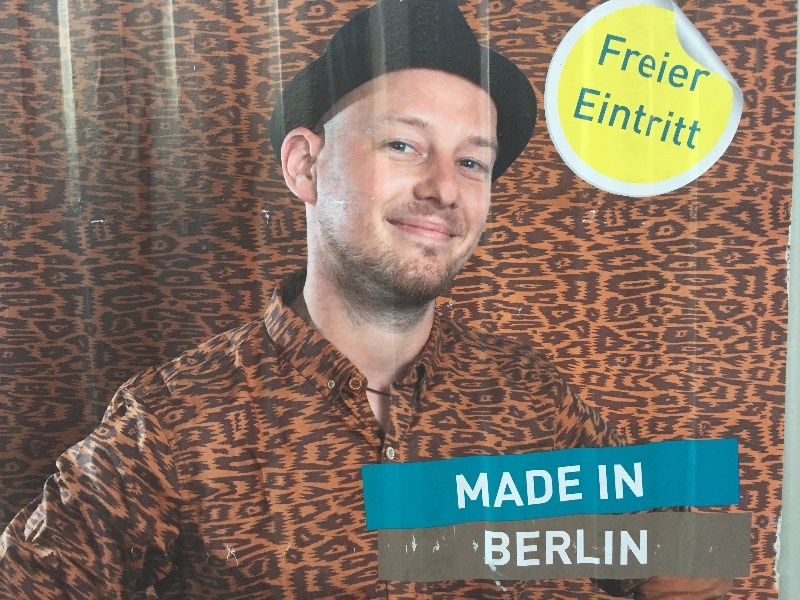text: (593, 88, 608, 150), (609, 88, 624, 150), (625, 88, 640, 150), (641, 88, 656, 150), (657, 88, 672, 150), (673, 88, 688, 150), (609, 34, 624, 92), (625, 34, 640, 92), (641, 34, 656, 92), (657, 34, 672, 92), (673, 34, 688, 92), (689, 34, 704, 92), (689, 88, 703, 150), (465, 466, 480, 509), (481, 466, 496, 509), (497, 466, 512, 509), (513, 466, 528, 509), (529, 466, 544, 509), (545, 466, 560, 509), (561, 466, 576, 509), (582, 88, 592, 150), (705, 34, 715, 92), (609, 463, 624, 500), (625, 463, 640, 500), (497, 530, 512, 567), (513, 530, 528, 567), (529, 530, 544, 567), (545, 530, 560, 567), (561, 530, 576, 567), (577, 530, 592, 567), (593, 530, 608, 567), (609, 530, 624, 567), (625, 530, 640, 567), (485, 530, 496, 567), (598, 463, 608, 500), (456, 466, 464, 509), (641, 530, 647, 567), (577, 466, 582, 509), (641, 463, 643, 500)
